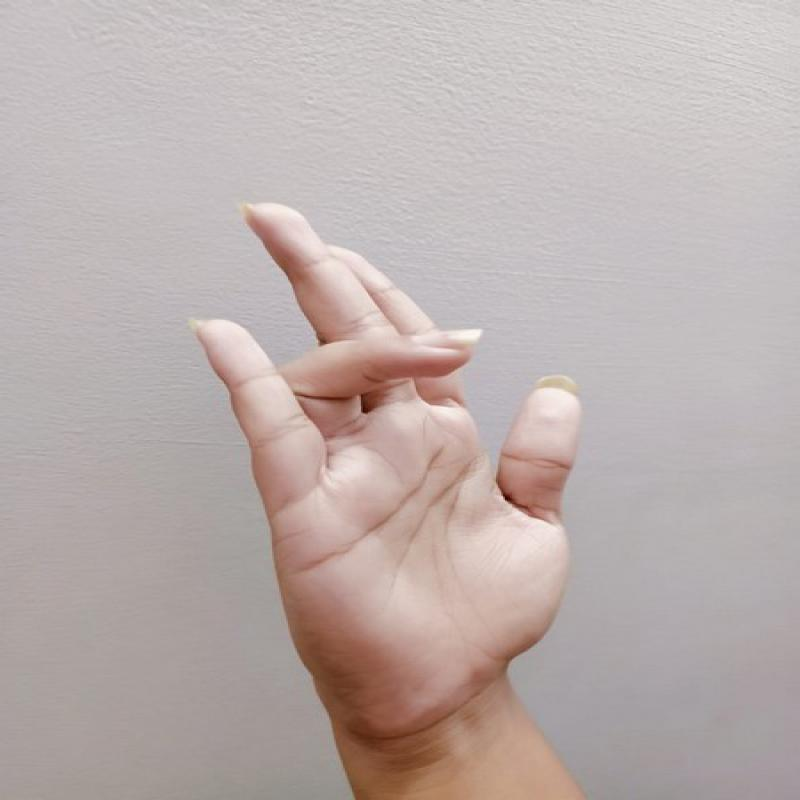Pathaaka: (155, 185, 651, 764)
